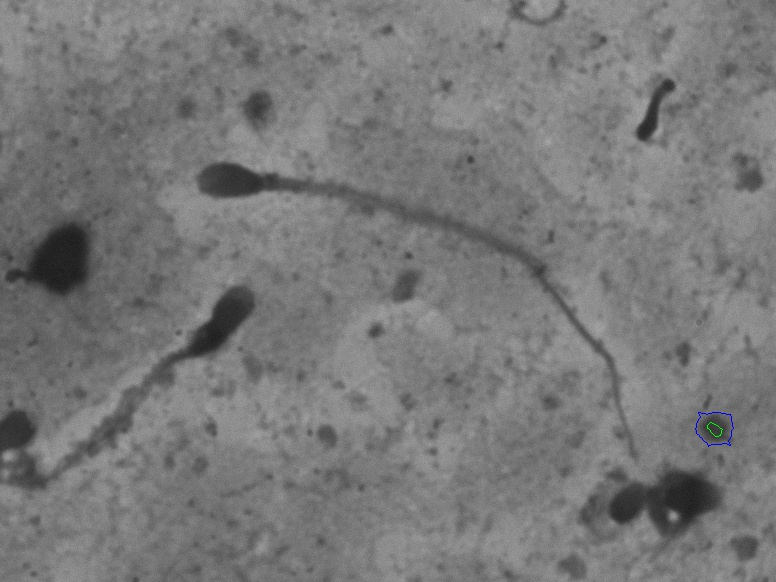Abnormal: (190, 139, 537, 277), (30, 279, 311, 444)
